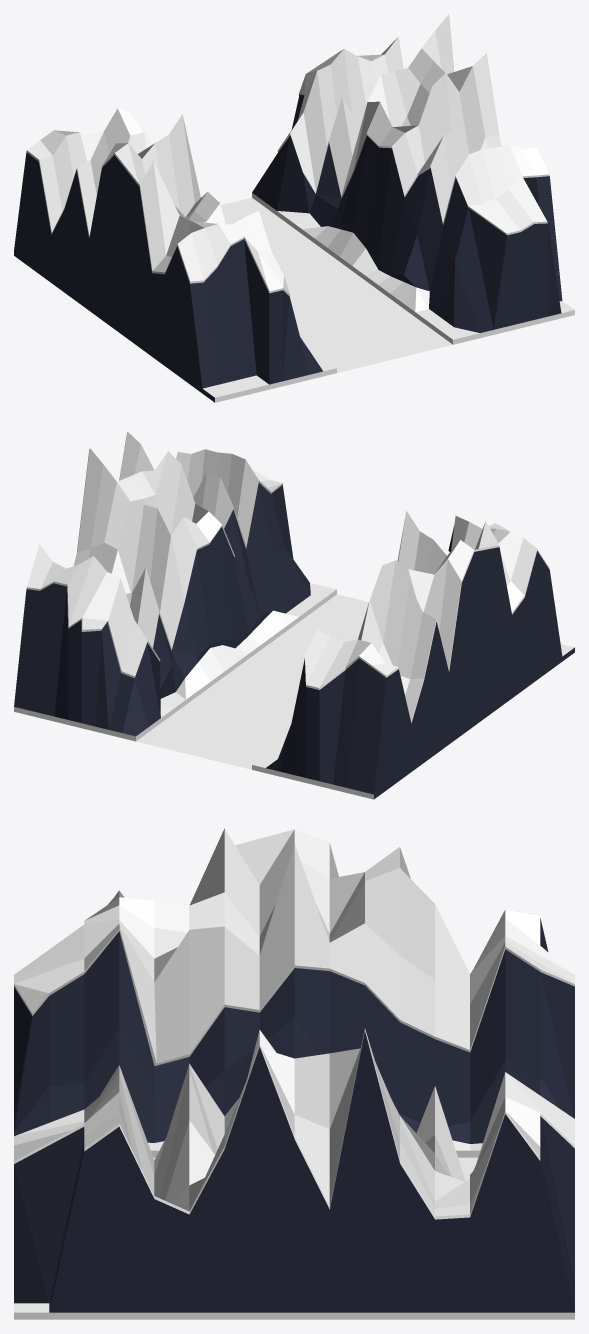
File: SideMountain1.fbx
3 views of the same model, one above another, from view 1: azimuth 30°, elevation 25°; view 2: azimuth 150°, elevation 25°; view 3: azimuth 270°, elevation 25° (orthographic). The views are drawn at different scales.
Visible parts, largest first — view 1: Landscape.021; view 2: Landscape.021; view 3: Landscape.021.
Part boxes in pixels (x1,y1,x2,y2): Landscape.021: (14, 14, 574, 402); Landscape.021: (14, 431, 574, 799); Landscape.021: (14, 828, 574, 1319).
Bounding box in the file's own units: 18600 × 10326 × 18004.
